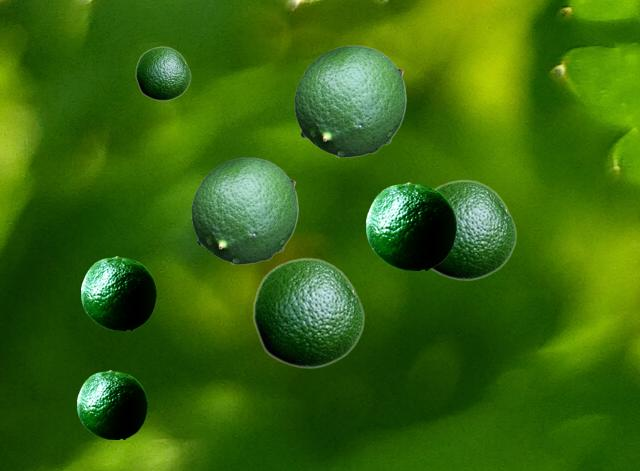calamansi: (252, 257, 364, 368), (294, 45, 405, 156), (191, 157, 297, 263), (431, 179, 516, 280), (366, 182, 455, 269), (81, 256, 155, 329), (77, 370, 146, 438), (135, 46, 190, 100)
